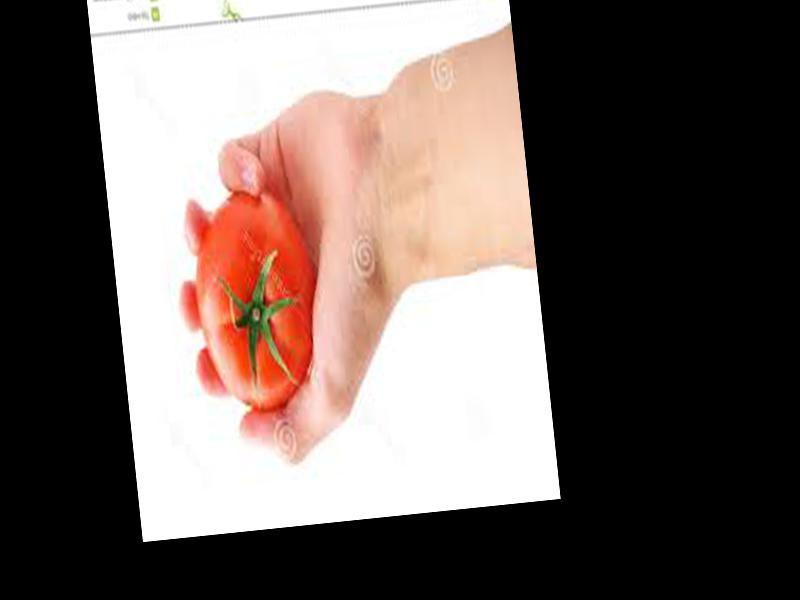Tomato: (186, 184, 324, 412)
